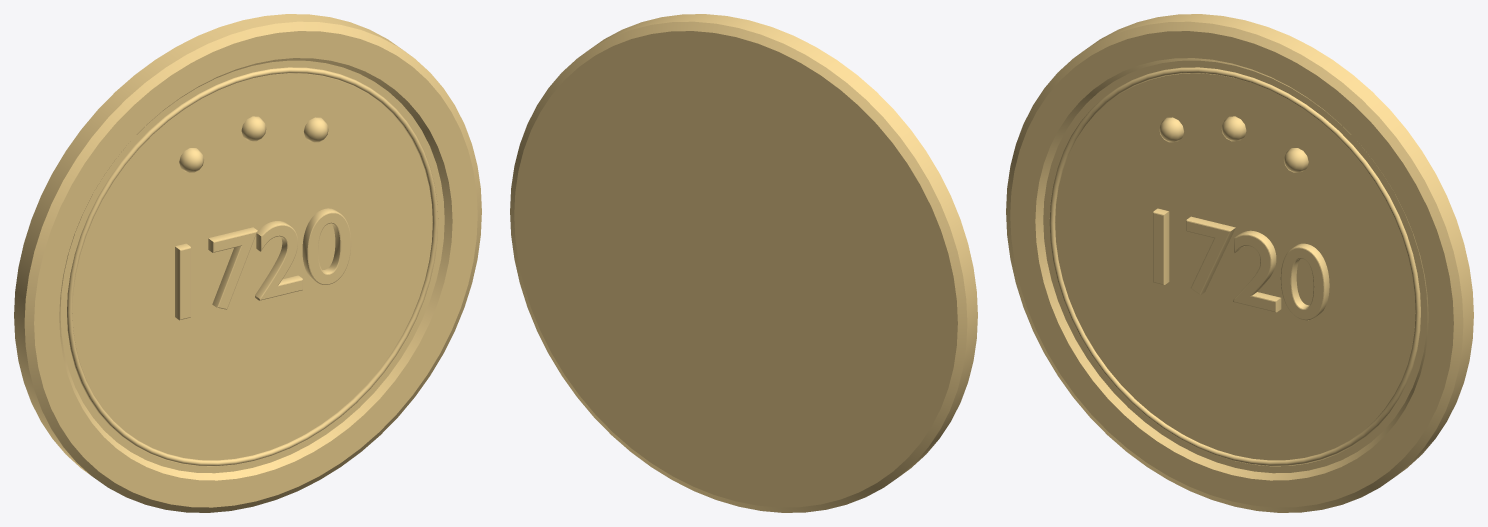
The model's file is coin_s.glb.
3 renders of one model, left to right at view 1: azimuth 30°, elevation 25°; view 2: azimuth 150°, elevation 25°; view 3: azimuth 330°, elevation 25°, orthographic.
Parts seen in each view (by area): view 1: coin, y, bead; view 2: coin; view 3: coin, bead, y.
Boxes of the visible parts, box(x1,y1,x2,y2) form: coin: box(14, 14, 481, 512); y: box(175, 208, 351, 320); bead: box(67, 67, 438, 466); coin: box(510, 14, 977, 512); coin: box(1006, 14, 1473, 512); bead: box(1049, 67, 1420, 466); y: box(1153, 208, 1329, 320).
Bounding box in the file's own units: 2 × 2 × 0.15.
